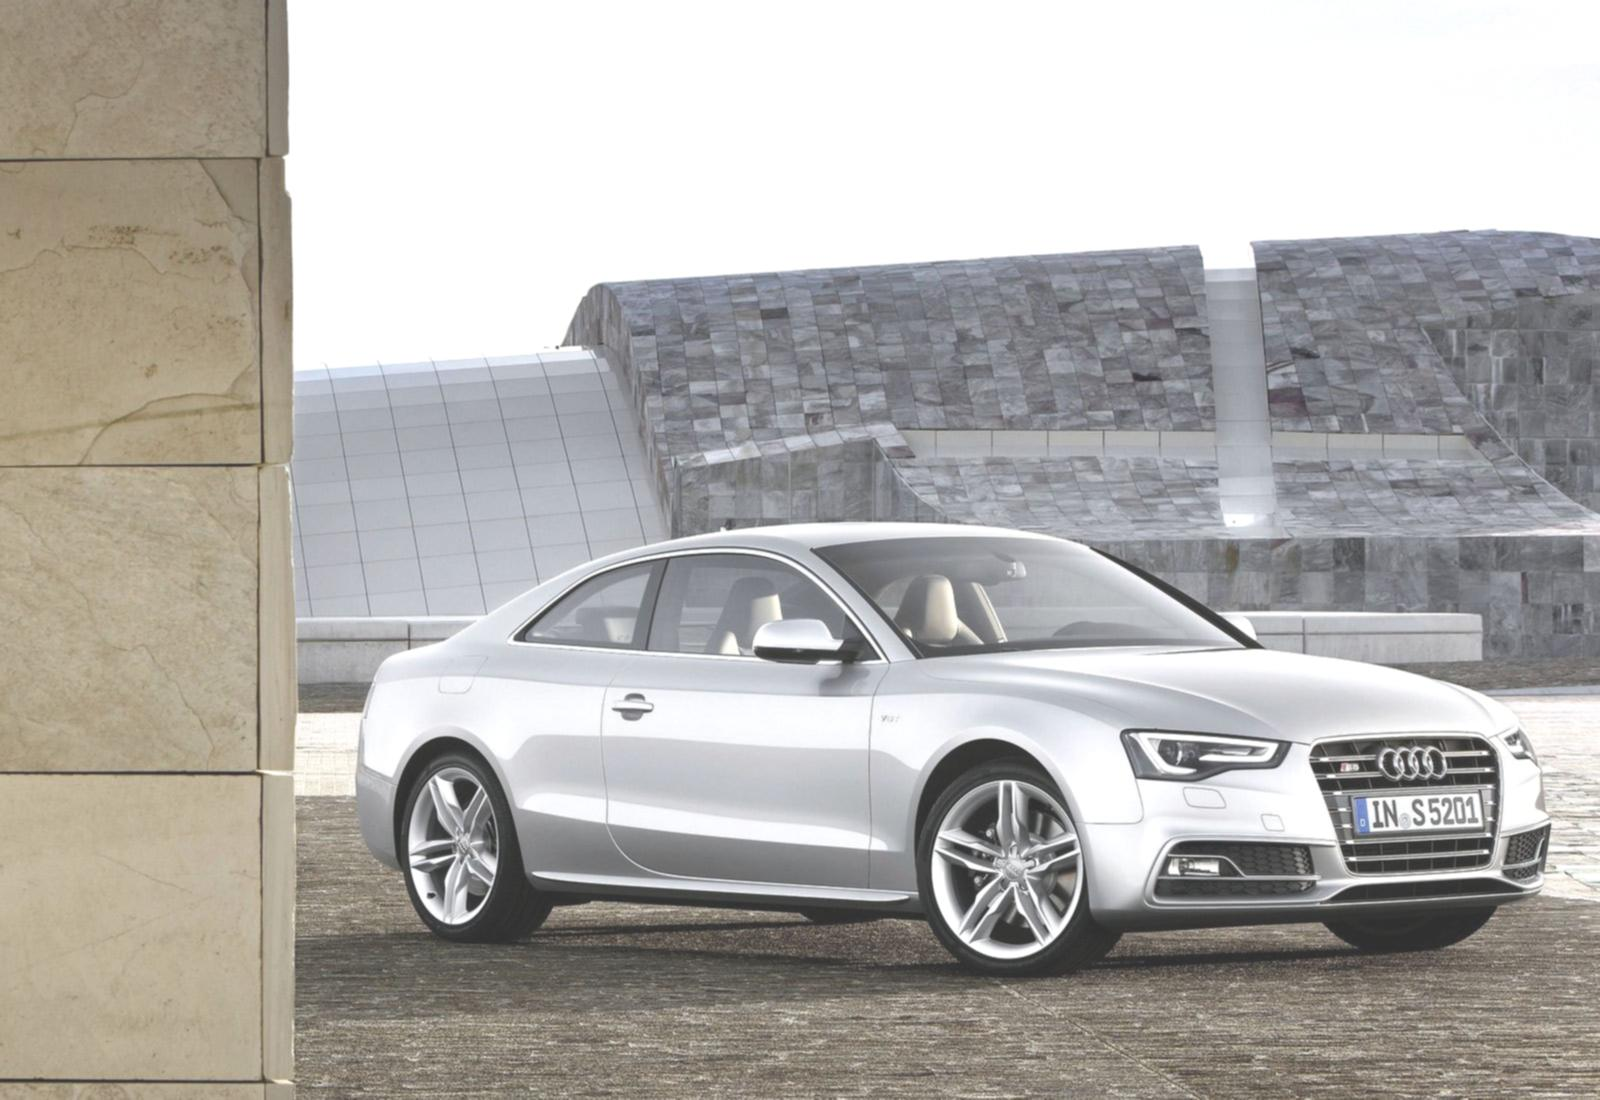Audi: (1365, 737, 1458, 790)
